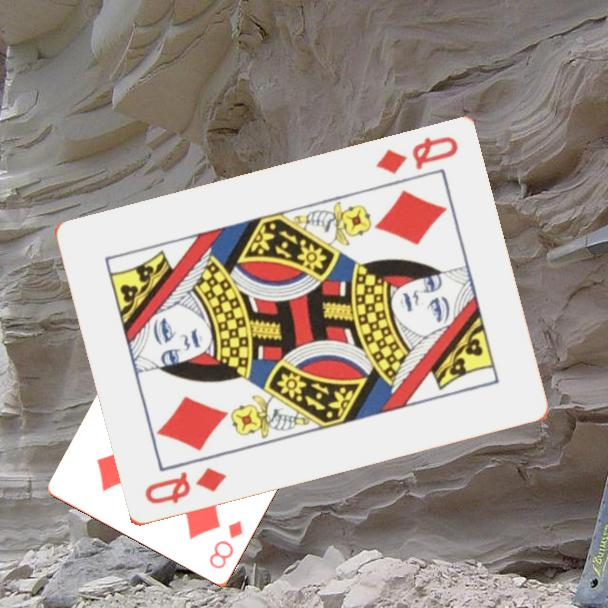d08: (206, 517, 246, 573)
d12: (372, 133, 461, 178), (141, 464, 230, 508)
